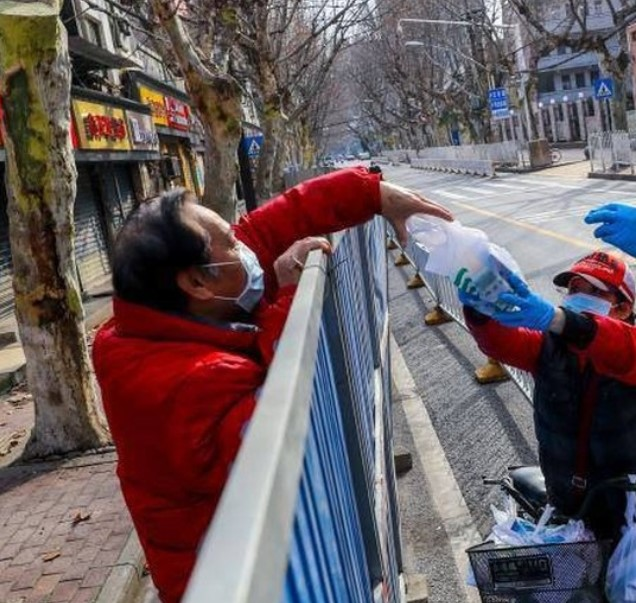face_with_mask: (112, 192, 269, 326), (555, 248, 633, 332)
